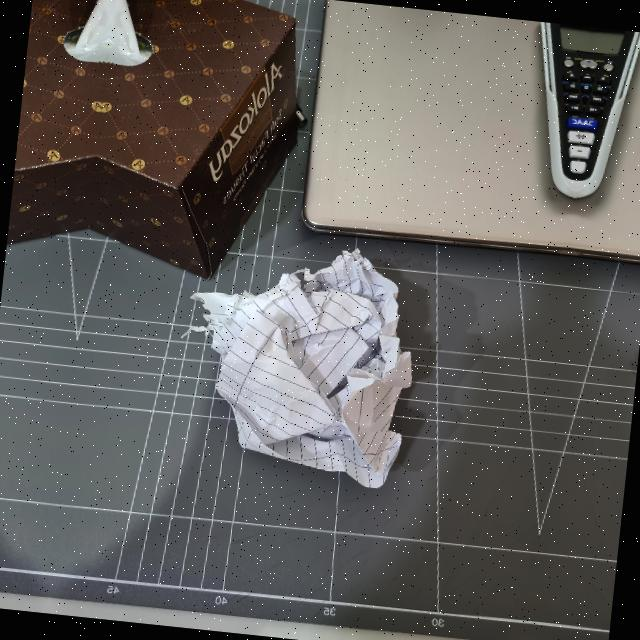paper: (150, 234, 423, 491)
